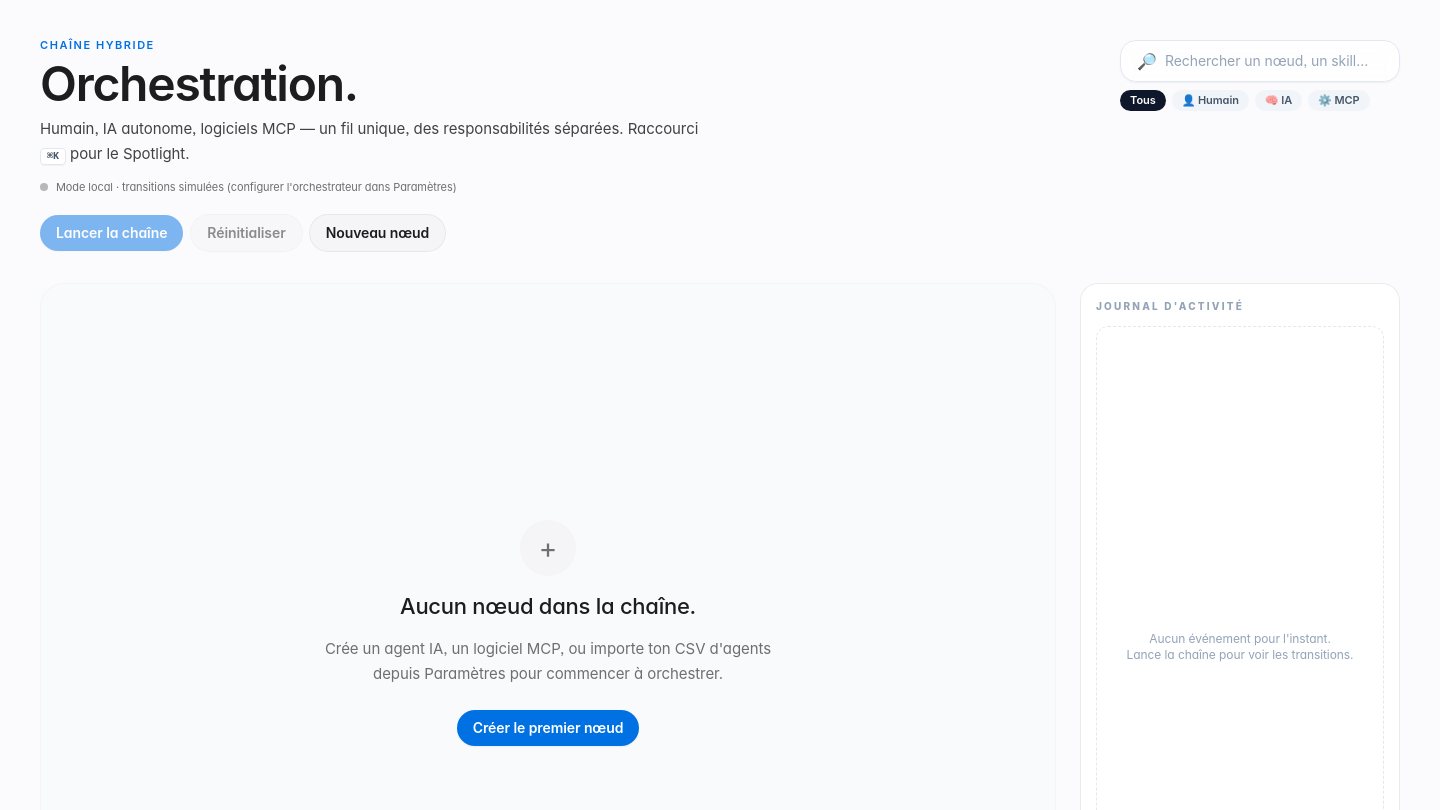
it: OrchestrationView › ouvre l'éditeur quand on clique sur 'Nouveau nœud'
This screenshot has width=1440, height=810.
Step 1. Click the button "Nouveau nœud" → (378,233), box left=310, top=215, right=445, bottom=251
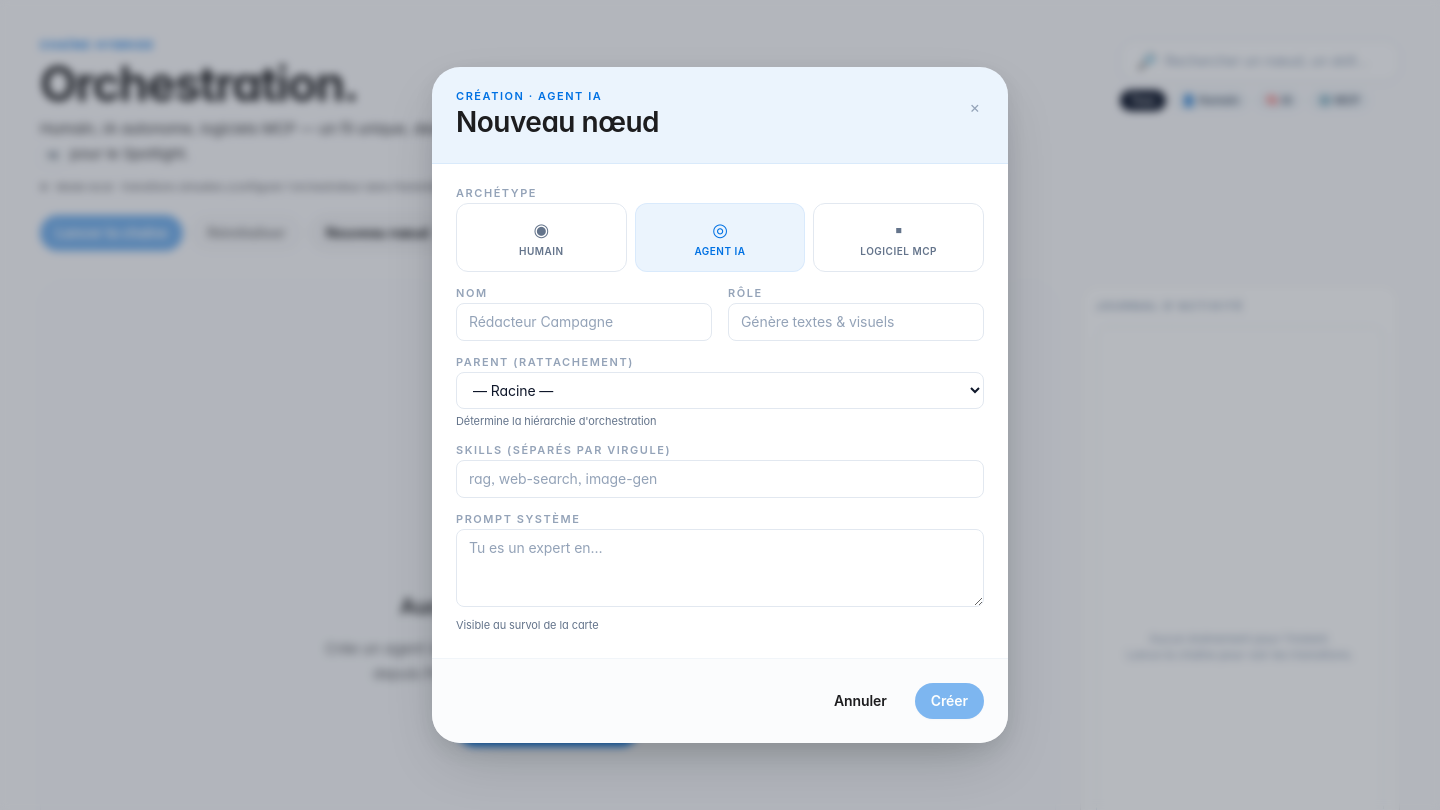
Expected: the dialog is shown
Expected: the field with placeholder "Rédacteur Campagne" is shown, left=456, top=303, right=712, bottom=341
